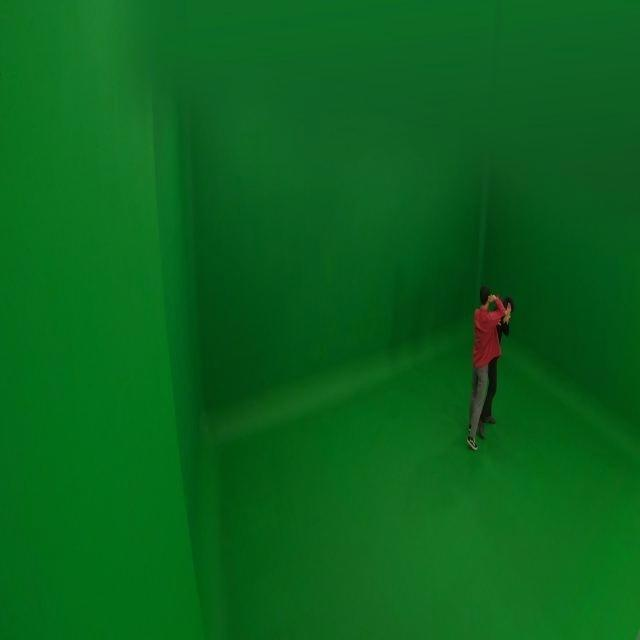fight: (462, 286, 512, 450)
